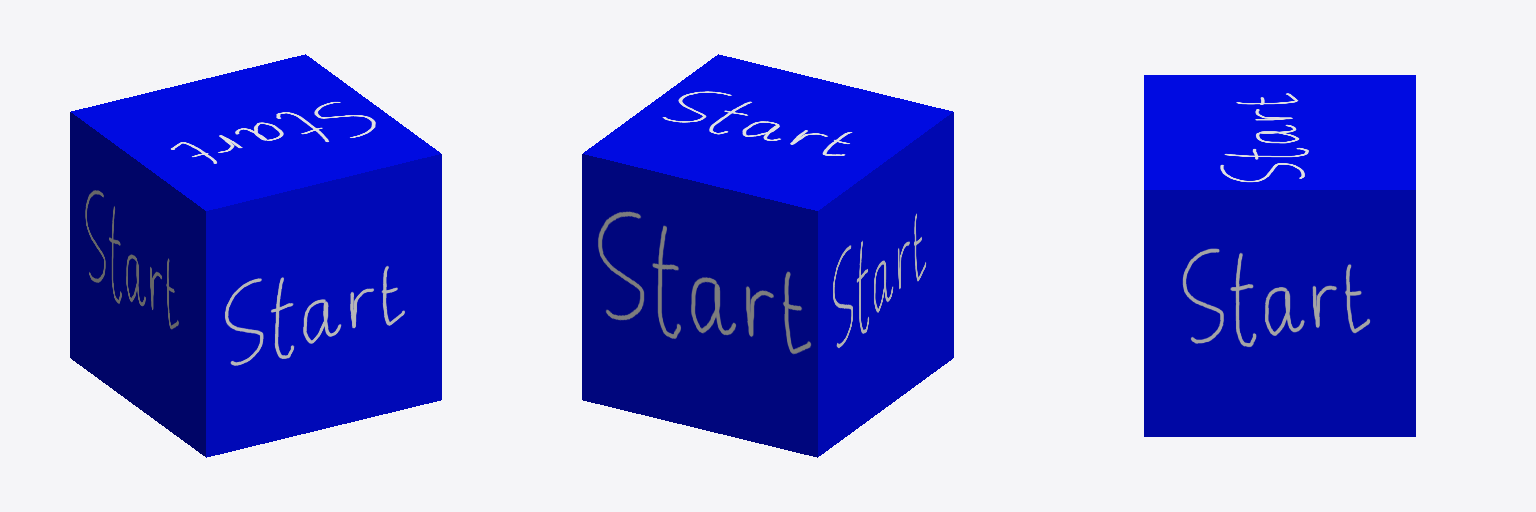
The picture shows the model from 3 angles: view 1: azimuth 30°, elevation 25°; view 2: azimuth 150°, elevation 25°; view 3: azimuth 270°, elevation 25°; orthographic projection.
Visible parts, largest first — view 1: Cube; view 2: Cube; view 3: Cube.
Part boxes in pixels (bbox=[...]): Cube: bbox=[70, 54, 441, 457]; Cube: bbox=[582, 54, 953, 457]; Cube: bbox=[1144, 75, 1415, 436].
Bounding box in the file's own units: 2 × 2 × 2.
1 materials, 1 textured.